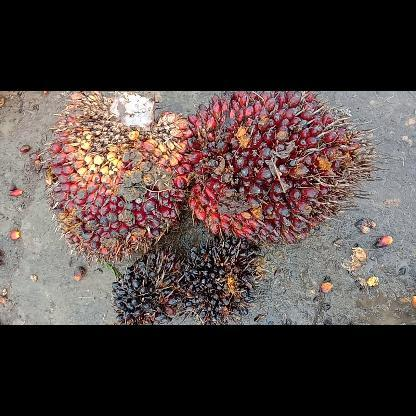TBS abnormal: (185, 236, 265, 324), (110, 248, 188, 324)
TBS masak: (186, 91, 390, 245), (38, 91, 194, 267)
